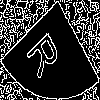R: (25, 25, 67, 81)
